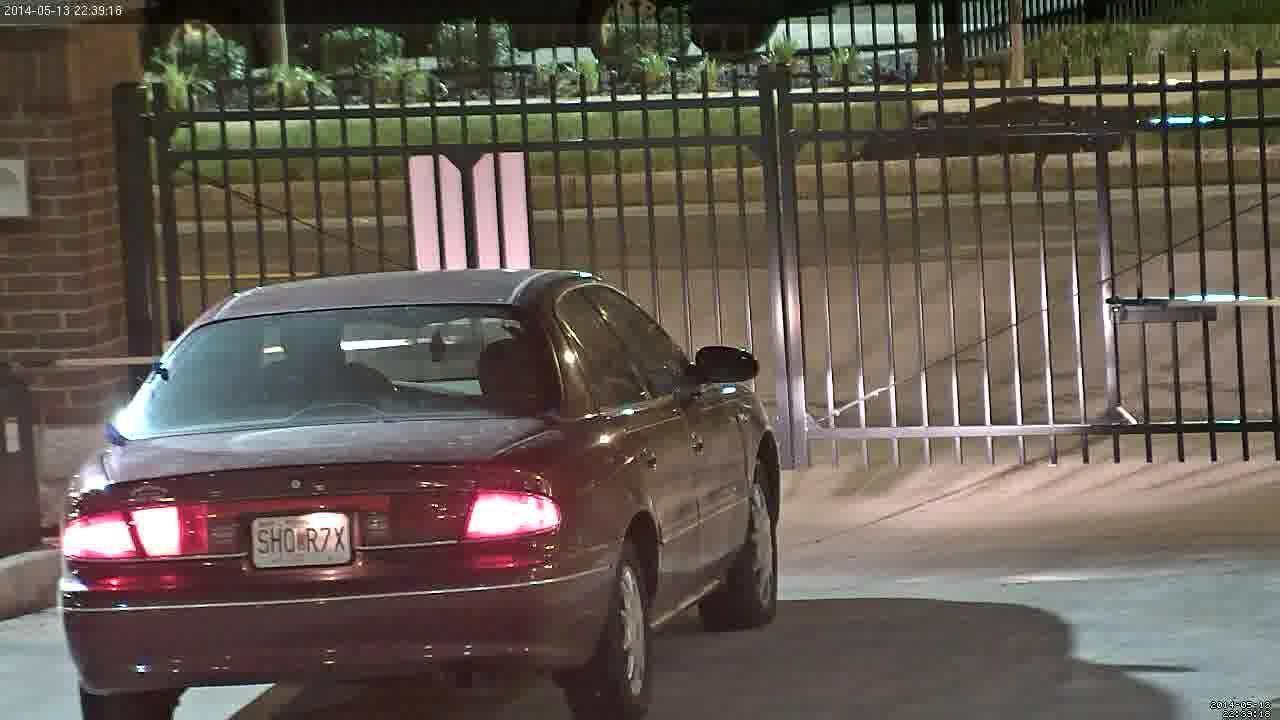placa de veiculo: (226, 506, 363, 578)
